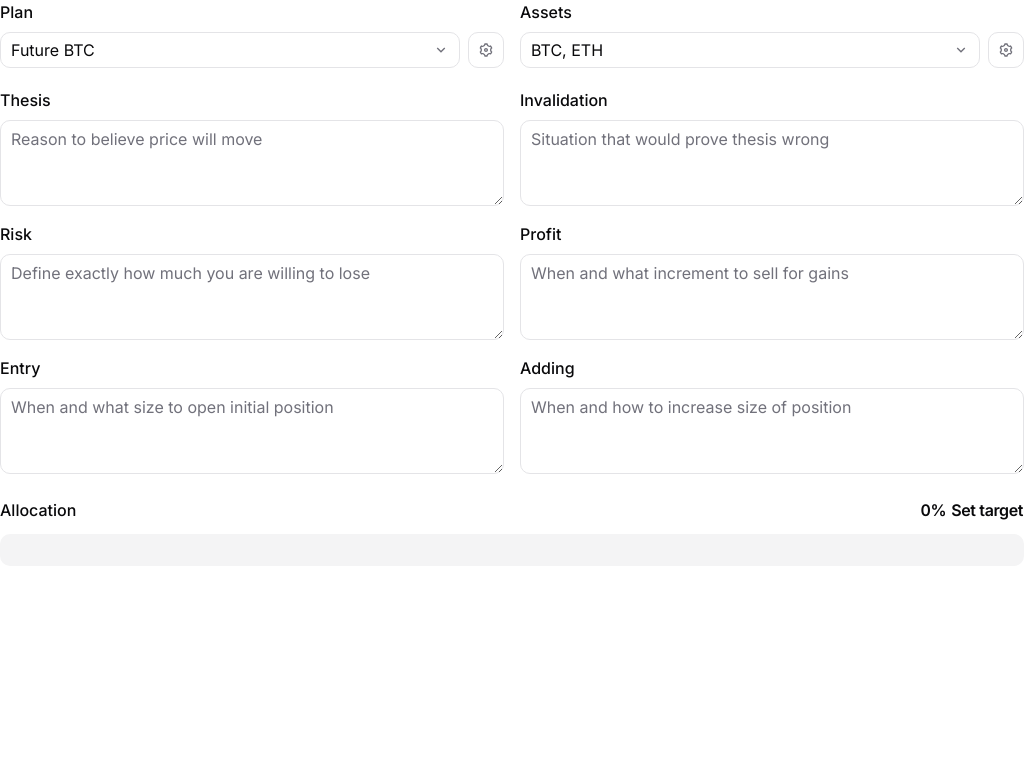
Test case: PlansEditor › the Plan switcher › clears every asset from the Plan at once
Check: the button named "Assets" shows "BTC", box [520,32,980,68]
Click the button named "Asset settings".
click(1006, 50)  # box [988,32,1023,68]
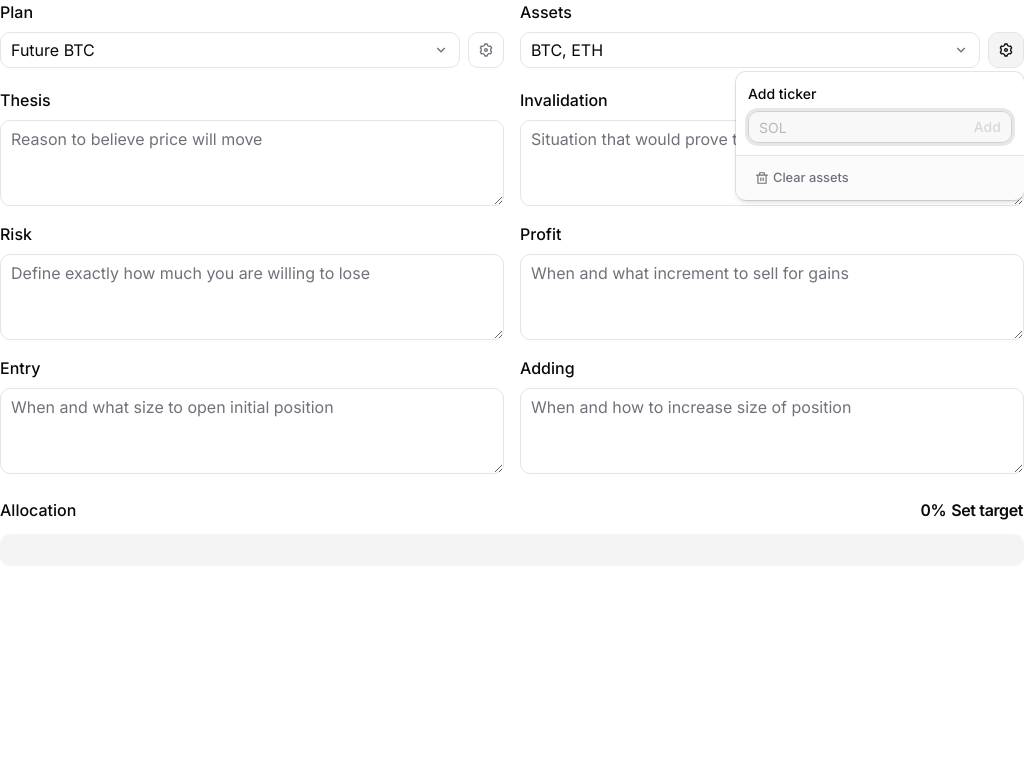
Click the button "Clear assets".
click(802, 178)  # box [744,164,860,192]
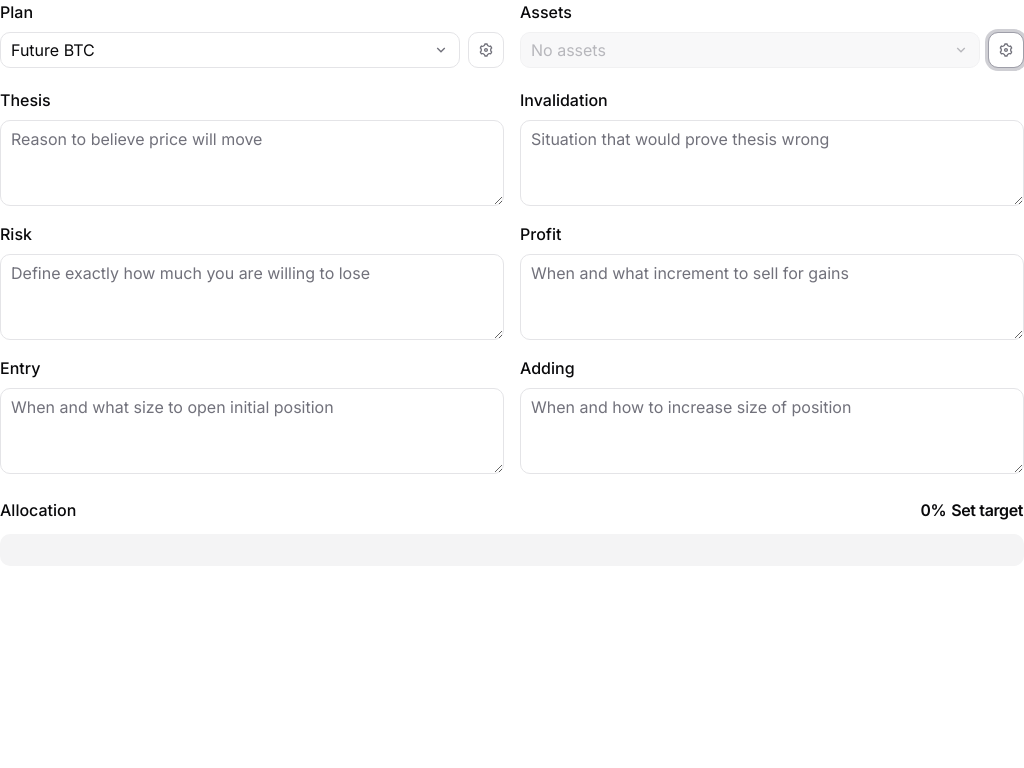
Check: the button labelled "No assets" is shown, box [520,32,980,68]
